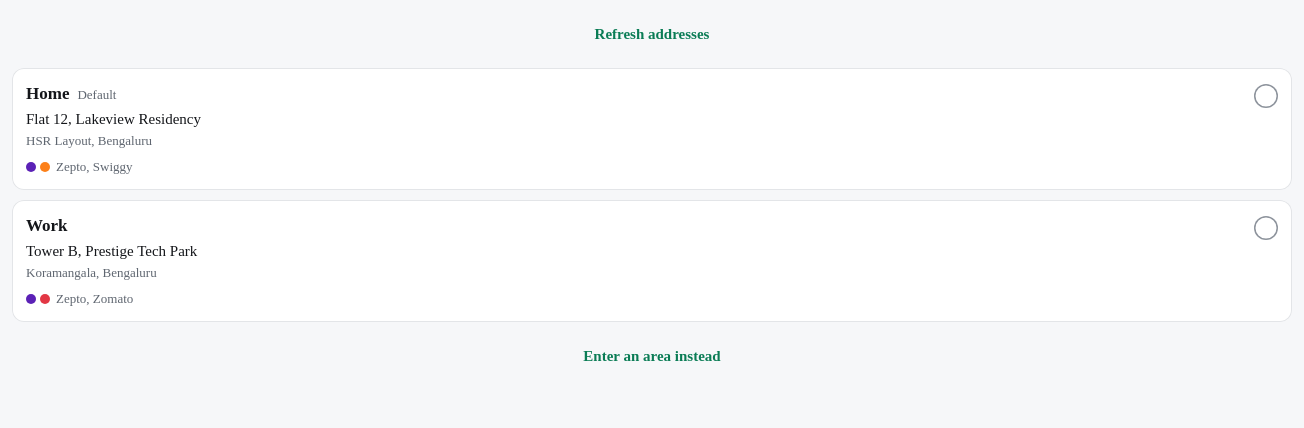
AddressPicker refresh and lines › explains the rate limit
Step 1. Click the button "Refresh addresses" → point(652, 34), box [12,12,1292,56]
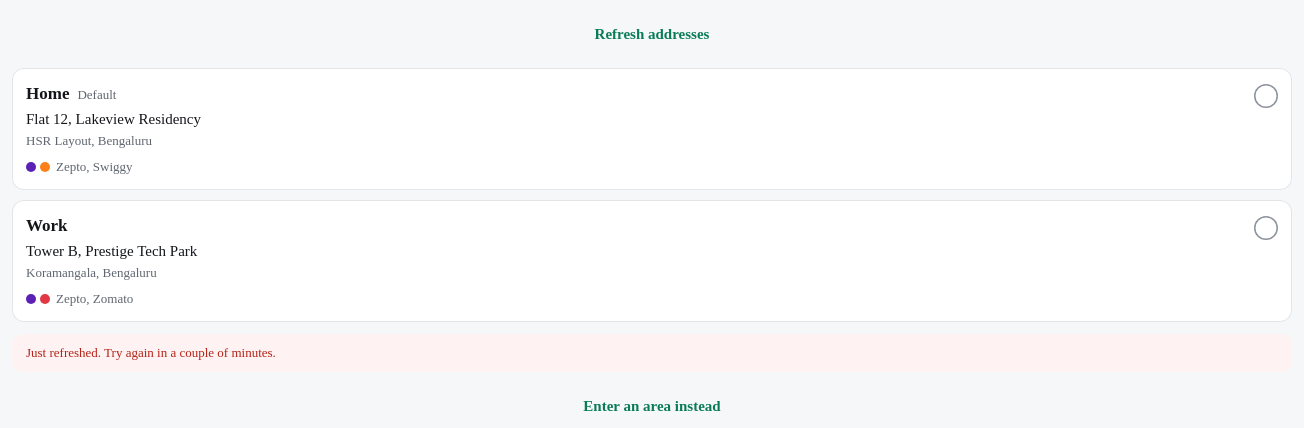
Expected: the message shows "Just refreshed", [26,345,276,360]
